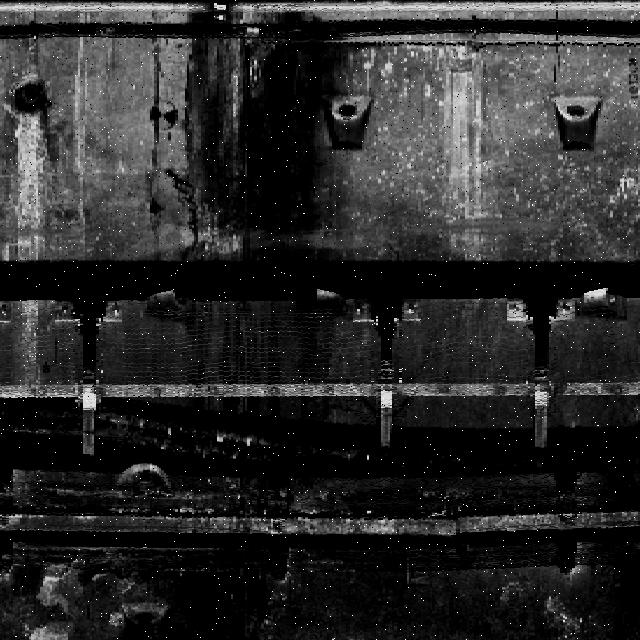leakage: (153, 1, 352, 259), (1, 543, 298, 639), (177, 291, 344, 425)
